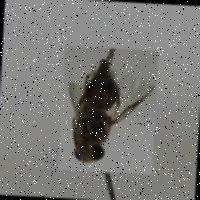Oriental-fruit-fly: (59, 45, 159, 174)
